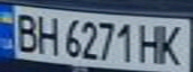1: (115, 19, 139, 63)
2: (78, 17, 100, 61)
6: (60, 16, 84, 58)
7: (97, 18, 118, 62)
B: (9, 9, 42, 53)
H: (136, 20, 163, 65), (33, 12, 60, 56)
K: (154, 20, 190, 66)
